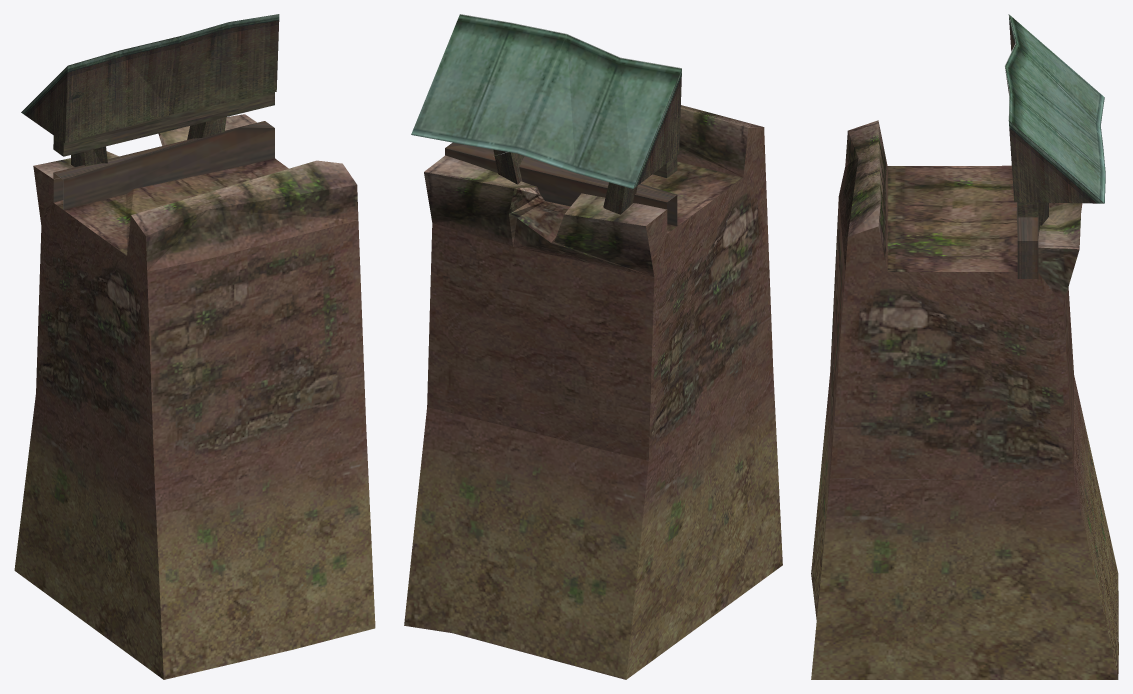
File: C1SMWA5H.obj
The picture shows the model from 3 angles, left to right: view 1: azimuth 30°, elevation 25°; view 2: azimuth 150°, elevation 25°; view 3: azimuth 270°, elevation 25°; orthographic projection. The views are drawn at different scales.
Parts seen in each view (by area): view 1: Node 0; view 2: Node 0; view 3: Node 0.
Boxes of the visible parts, left/top/right/bottom form: Node 0: left=14, top=14, right=375, bottom=679; Node 0: left=404, top=14, right=782, bottom=679; Node 0: left=811, top=14, right=1118, bottom=679.
Size of the model in its own units: 5 by 12.49 by 6.12.
4 materials, 4 textured.
